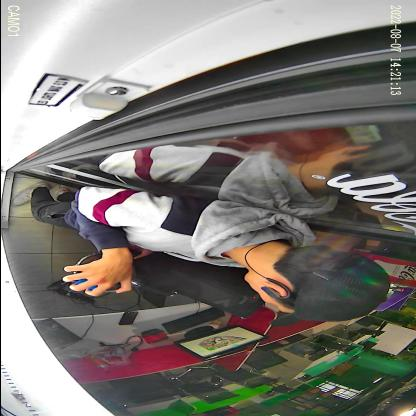blue: (69, 252, 135, 292)
